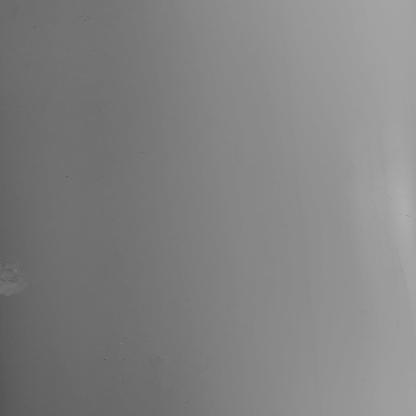sunshang: (1, 264, 31, 304)
